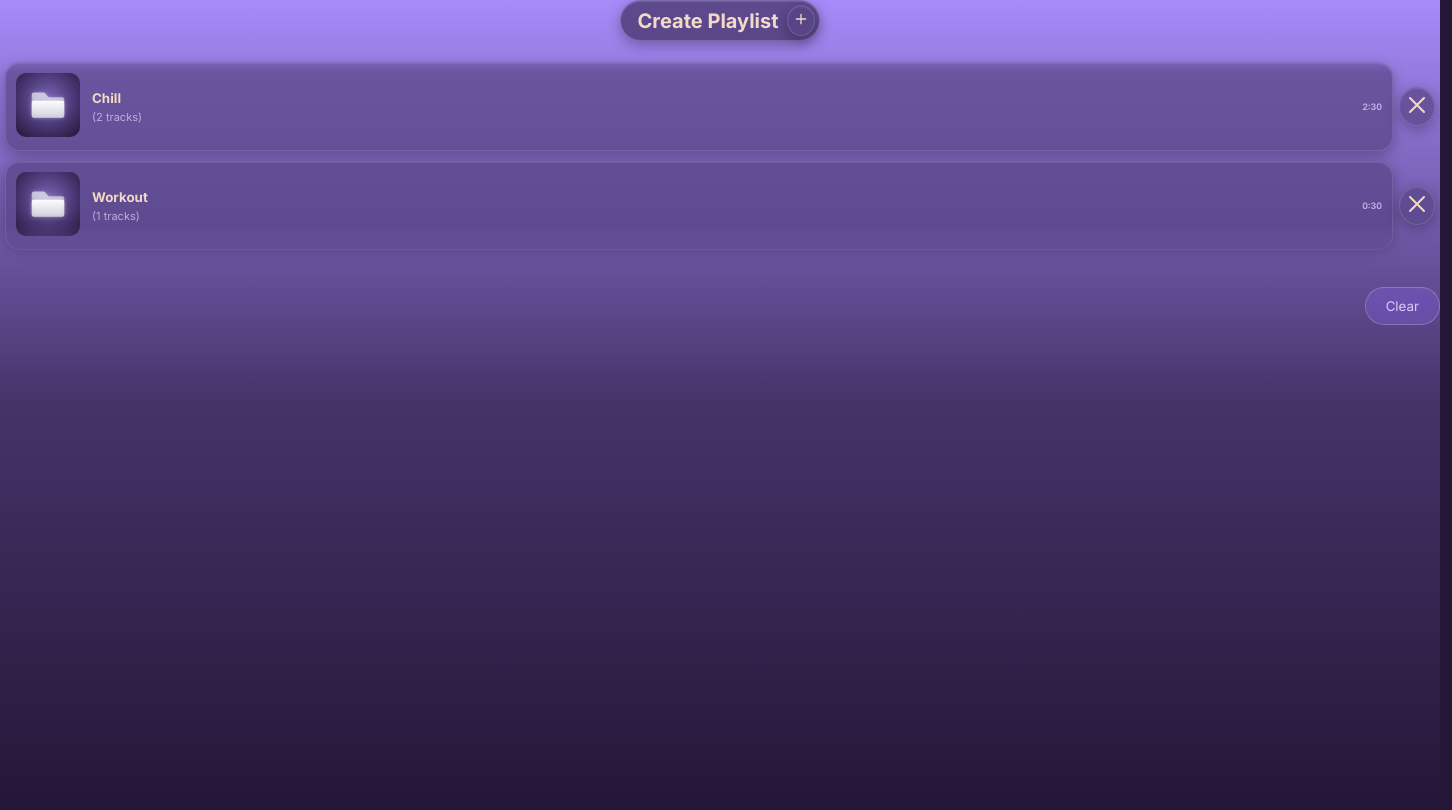
Test: PlaylistSelectionList › renaming a playlist › shows the new name once saved
Click the button "Chill (2 tracks) 2:30" at (48, 105), box [5,62,1393,151]
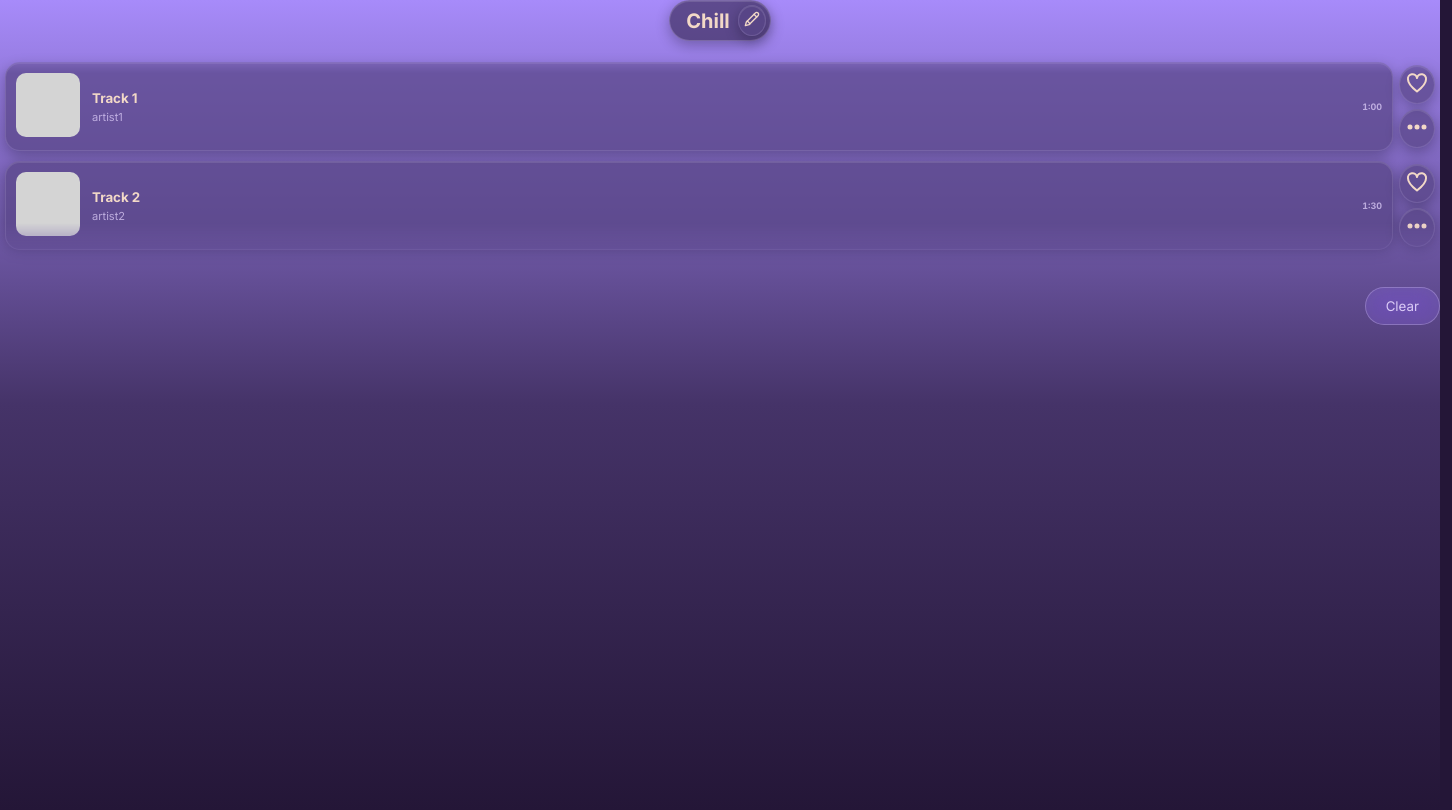
Click the button named "rename playlist" at (752, 20), box [738,5,766,36]
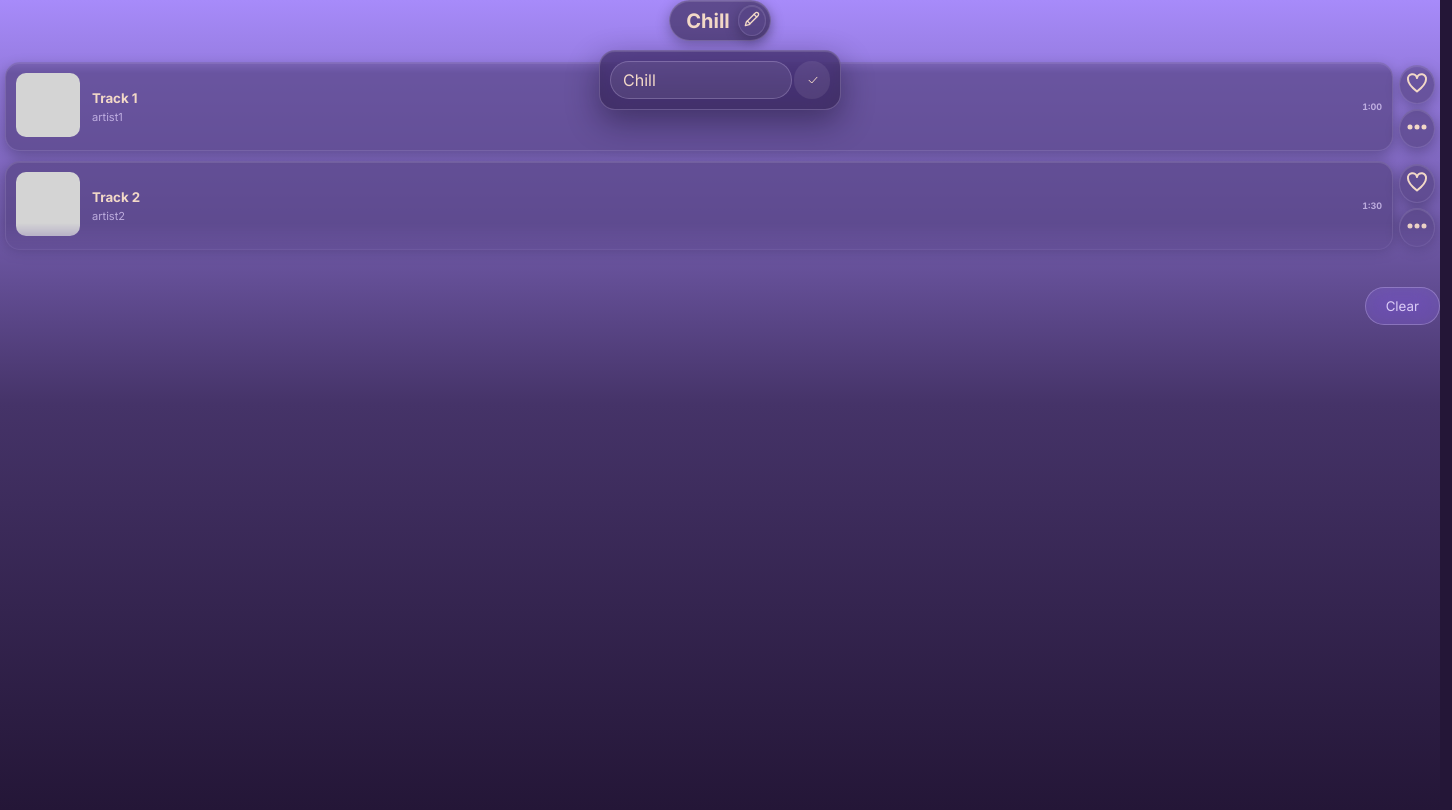
Replace the text in the field with placeholder "Playlist name" with "Late Night" at (701, 80), box [610,61,792,99]
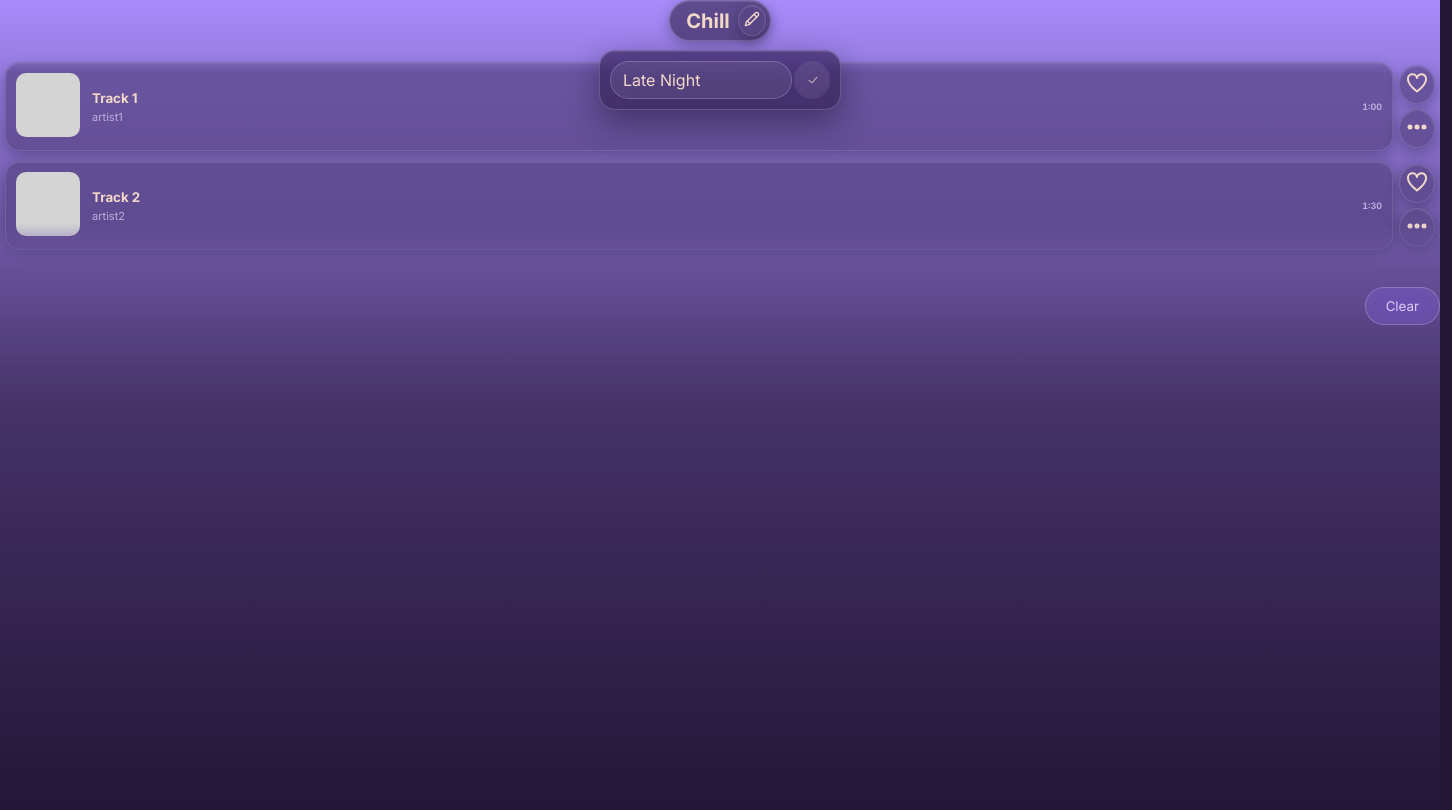
Click the 2nd button at (812, 80), box [794,61,830,99]
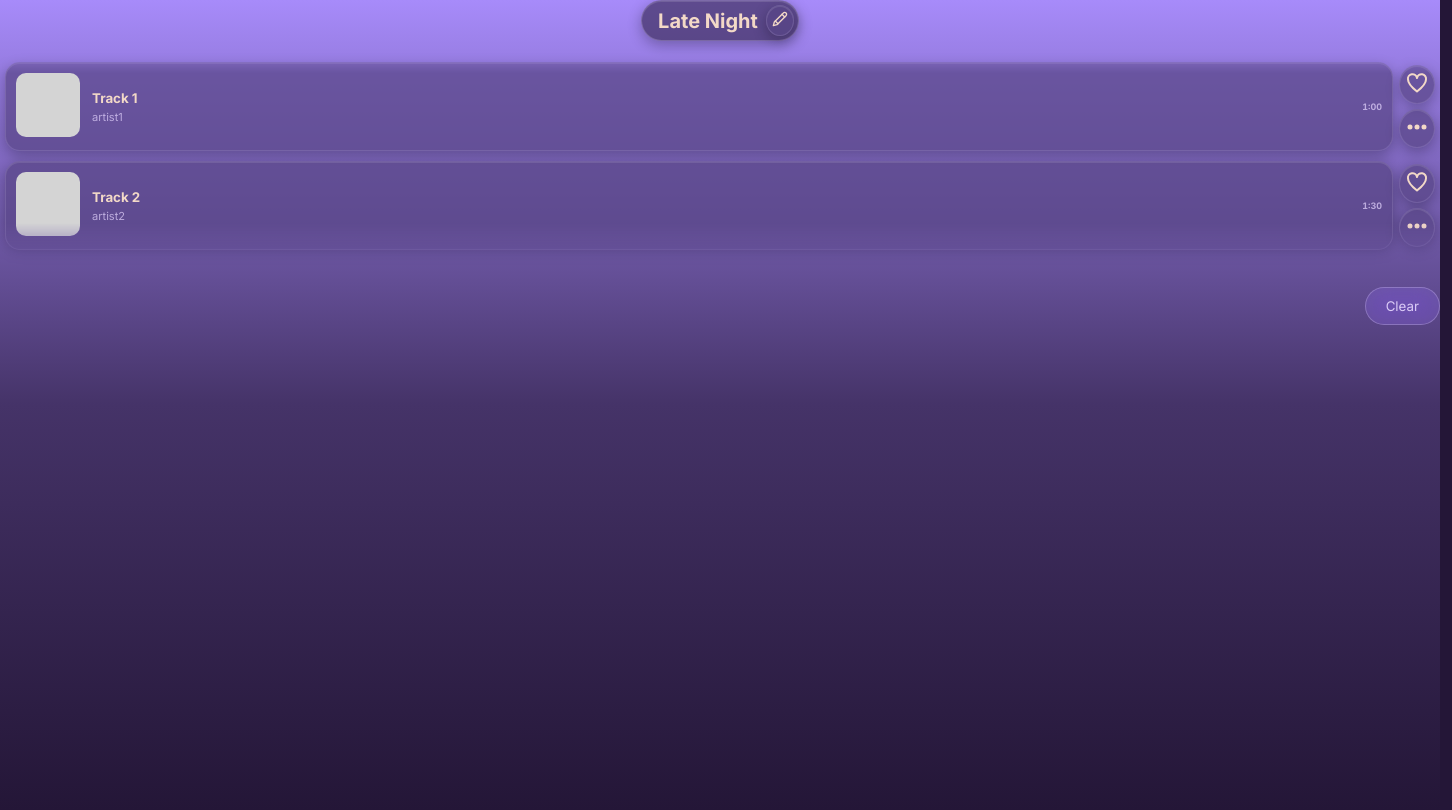
Expected: the heading "Late Night" is shown, [658,8,758,32]
